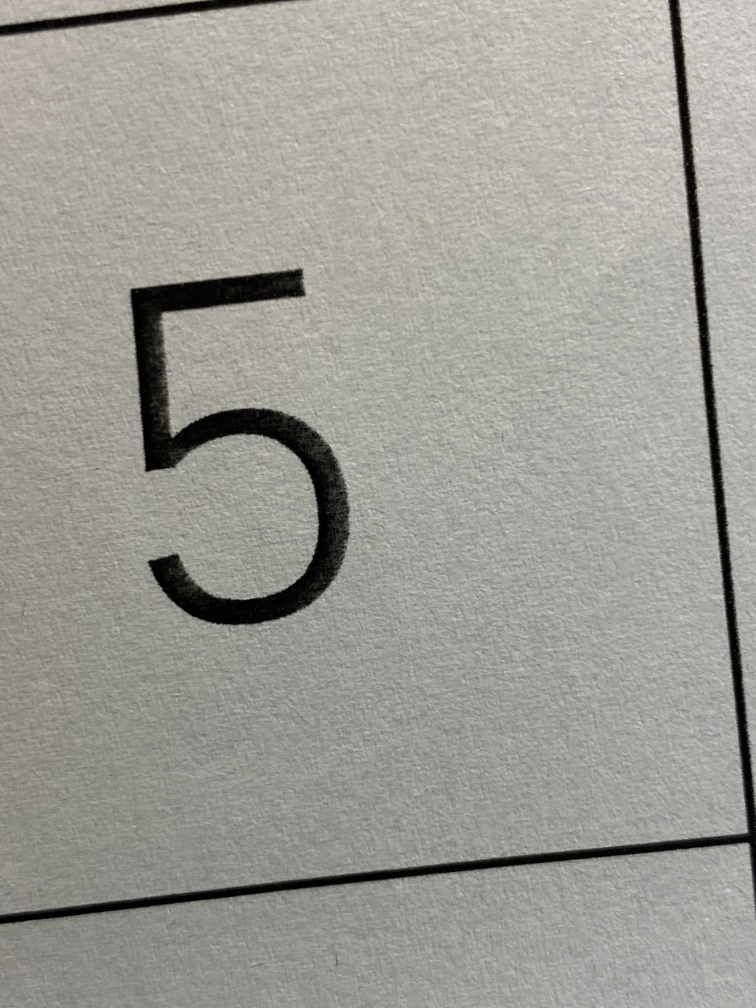five: (75, 205, 401, 683)
